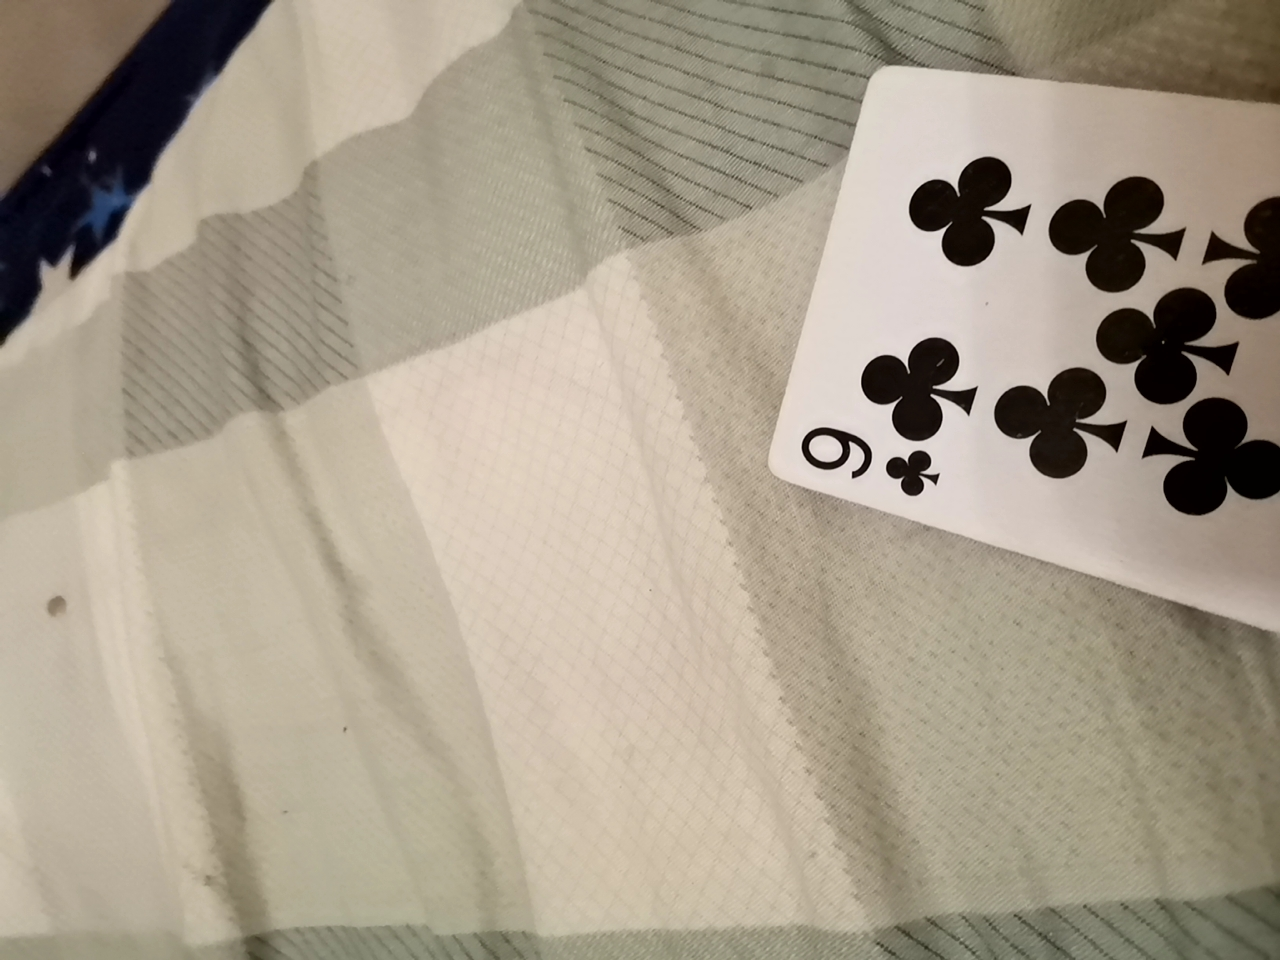mh 9: (758, 56, 1275, 676)
